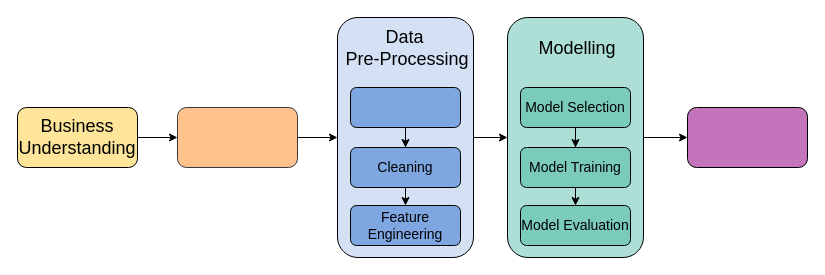
Some shapes in this 825 by 275 pixel diagram are drawn without their labels. Each missing label, with the box of its shape:
Data Collection: (176, 106, 298, 168)
Deployment: (686, 106, 808, 168)
EDA: (350, 86, 460, 128)
